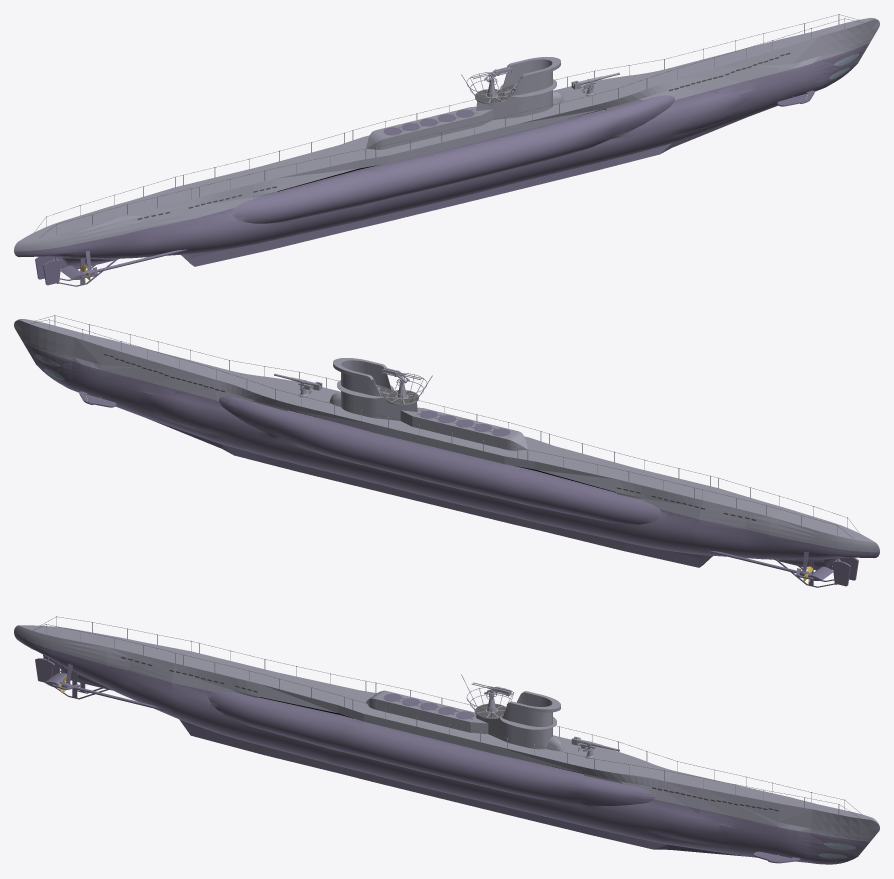
The model's file is type_vii_d_u-boat.glb.
3 renders of one model, top to bottom at view 1: azimuth 30°, elevation 25°; view 2: azimuth 150°, elevation 25°; view 3: azimuth 330°, elevation 25°, orthographic.
Parts seen in each view (by area): view 1: Material2 (×3); view 2: Material2 (×3); view 3: Material2 (×3).
Part boxes in pixels (x1,y1,x2,y2): Material2 (×3): [14, 14, 879, 286]; Material2 (×3): [14, 315, 879, 587]; Material2 (×3): [14, 616, 879, 864].
Bounding box in the file's own units: 3015 × 417 × 269.
